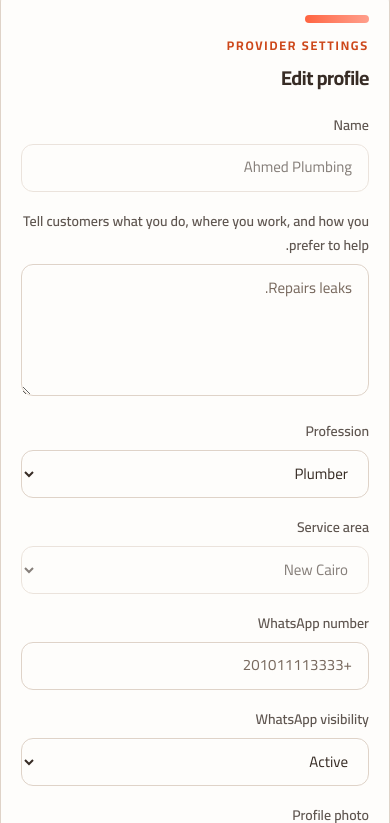
Test: EditProviderProfilePage › blocks malformed WhatsApp numbers before saving
In the field labelled "WhatsApp number": (195, 666) [21,642,369,690], type "not-a-number"
(page scrolled)
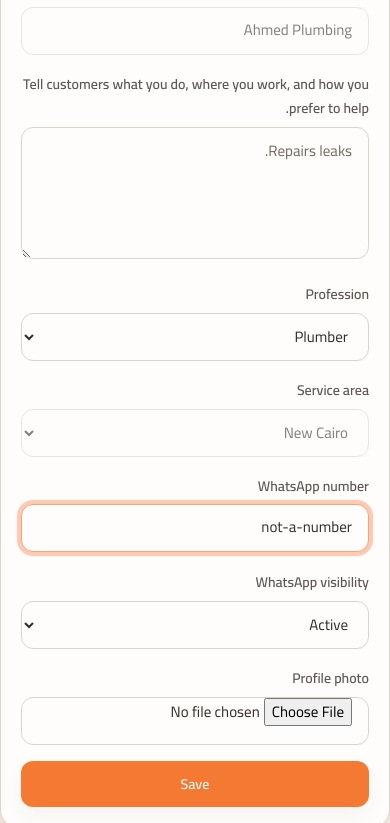
Click the button "Save": (195, 784) [21,761,369,807]
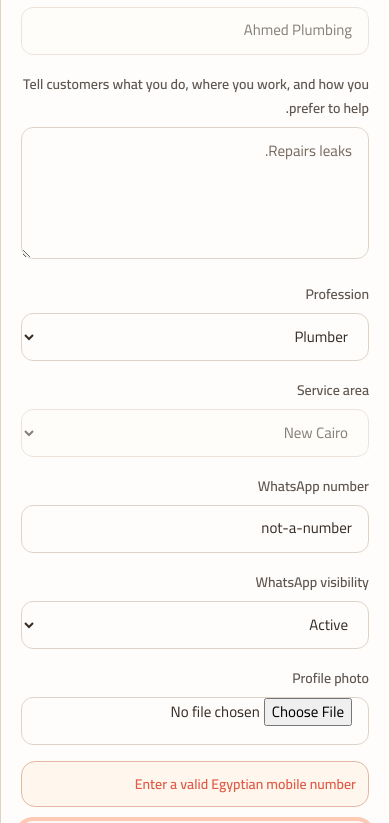
Expected: the message reads "Enter a valid Egyptian mobile number", [135,771,356,797]
